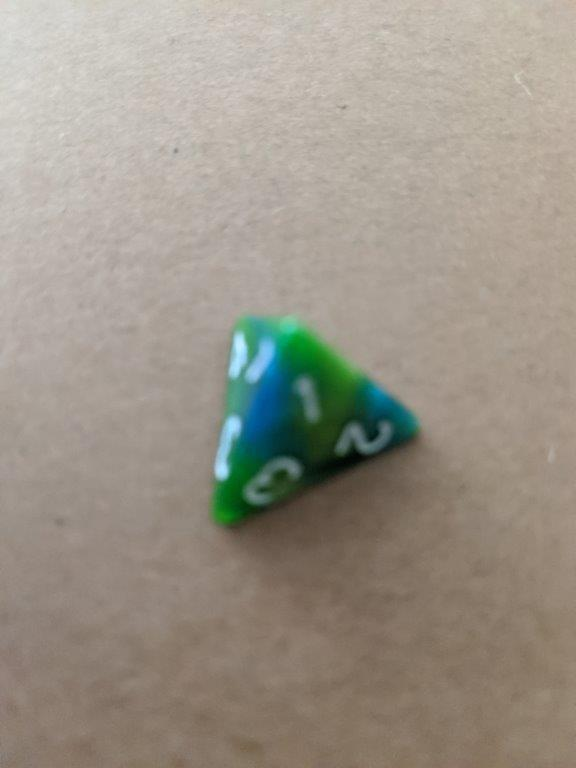d4-1: (207, 301, 427, 532)
